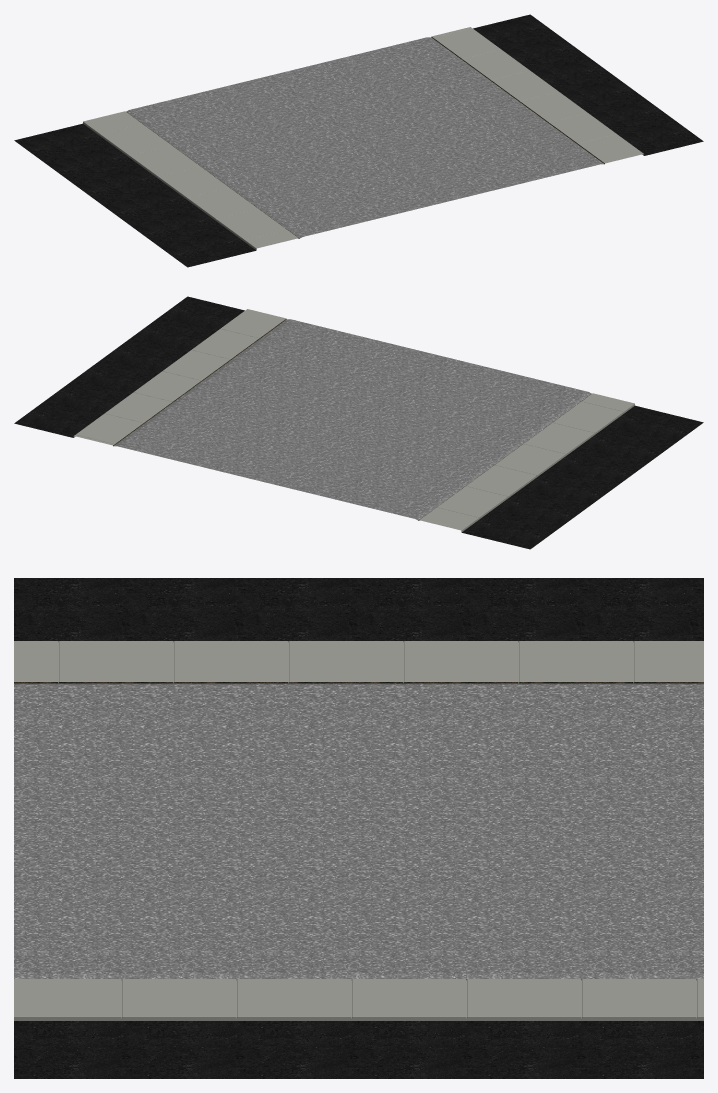
The model's file is Sidewalk.fbx.
3 renders of one model, top to bottom at view 1: azimuth 30°, elevation 25°; view 2: azimuth 150°, elevation 25°; view 3: azimuth 270°, elevation 25°, orthographic. The views are drawn at different scales.
Visible parts, largest first — view 1: Group1; view 2: Group1; view 3: Group1.
Boxes of the visible parts, x1,y1,x2,y2 form: Group1: [14, 14, 703, 267]; Group1: [14, 296, 703, 549]; Group1: [14, 578, 703, 1078].
Bounding box in the file's own units: 1042 × 4.61 × 607.
